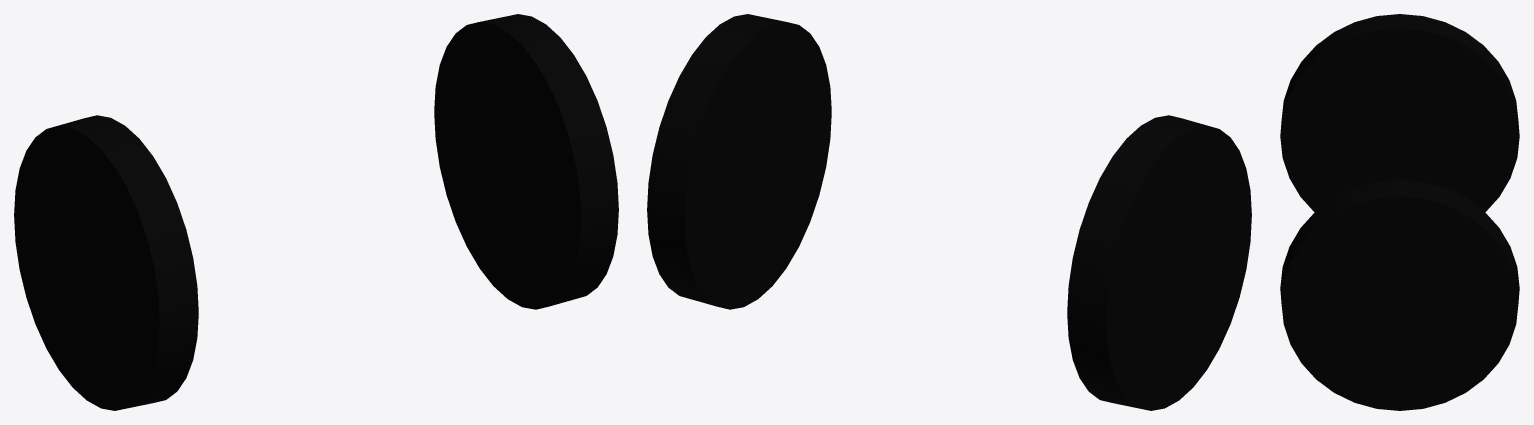
Rendered from 1000_phy_wheel.fbx.
3 renders of one model, left to right at view 1: azimuth 30°, elevation 25°; view 2: azimuth 150°, elevation 25°; view 3: azimuth 270°, elevation 25°, orthographic. The views are drawn at different scales.
Parts seen in each view (by area): view 1: Cylinder.001; view 2: Cylinder.001; view 3: Cylinder.001.
Boxes of the visible parts, <box> form: Cylinder.001: <box>14,14,618,410</box>; Cylinder.001: <box>647,14,1251,410</box>; Cylinder.001: <box>1280,14,1519,410</box>.
Bounding box in the file's own units: 180 × 100 × 100.
